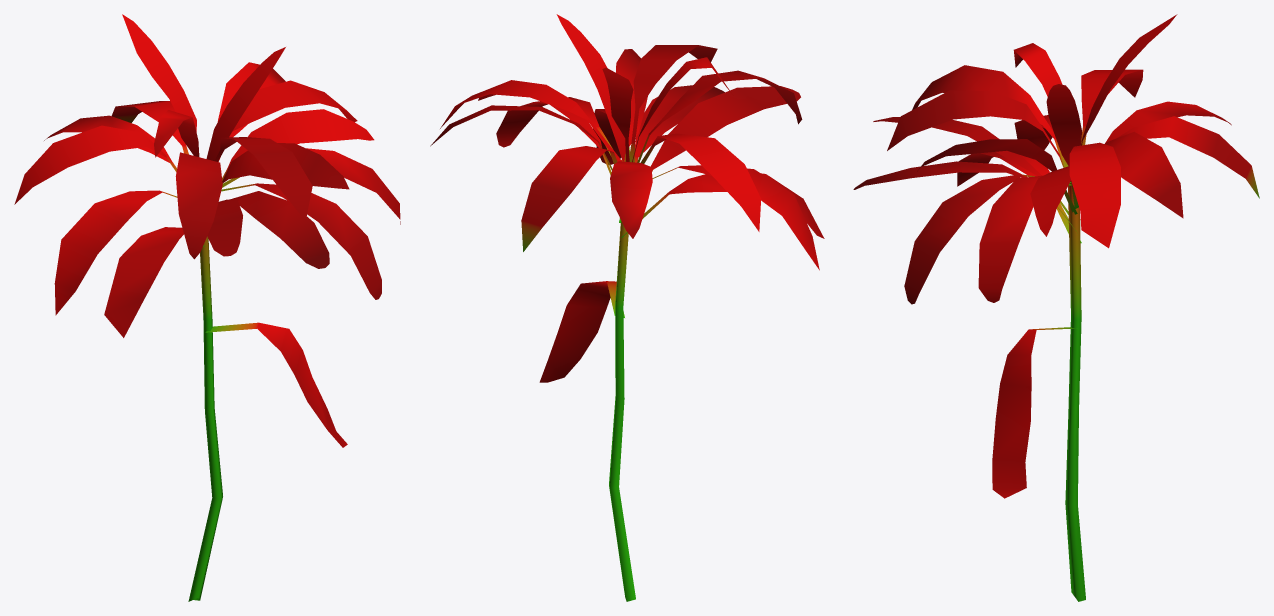
File: Var4_LOD2.fbx
3 views of the same model, side by side, from view 1: azimuth 30°, elevation 25°; view 2: azimuth 150°, elevation 25°; view 3: azimuth 270°, elevation 25° (orthographic). The views are drawn at different scales.
Visible parts, largest first — view 1: _88ed_Var4_LOD2; view 2: _88ed_Var4_LOD2; view 3: _88ed_Var4_LOD2.
Part boxes in pixels (left/top/right/bottom): _88ed_Var4_LOD2: left=14, top=14, right=400, bottom=601; _88ed_Var4_LOD2: left=430, top=14, right=824, bottom=601; _88ed_Var4_LOD2: left=853, top=14, right=1259, bottom=601.
Bounding box in the file's own units: 33.99 × 54.51 × 35.05.
